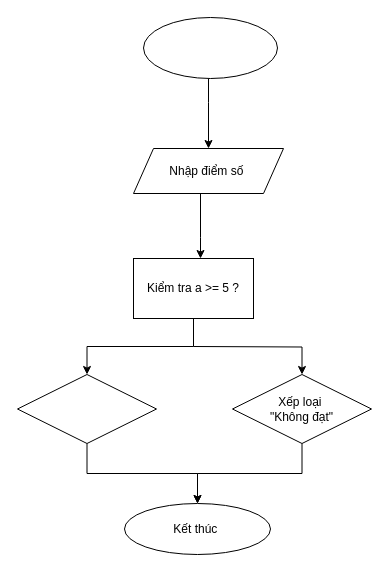
Image size: 389x572. Some labels were removed from this diagram. Each missing label, with the box of its shape:
BẮT ĐẦU: (142, 16, 278, 78)
Xếp loại "Đạt": (16, 374, 156, 444)
